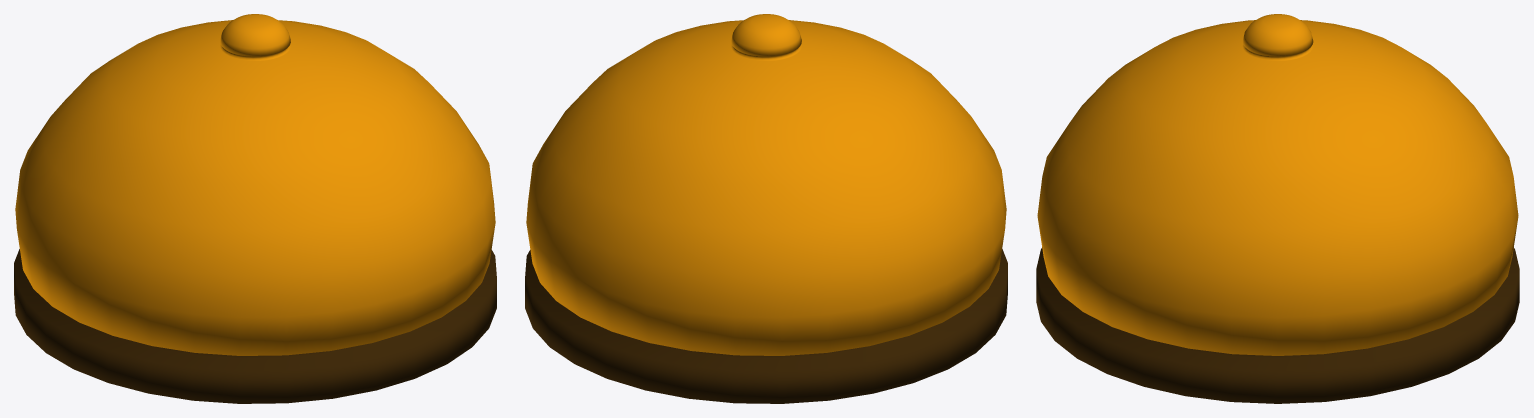
Rendered from SM_Bell.fbx.
3 views of the same model, side by side, from view 1: azimuth 30°, elevation 25°; view 2: azimuth 150°, elevation 25°; view 3: azimuth 270°, elevation 25° (orthographic).
Parts seen in each view (by area): view 1: Bell; view 2: Bell; view 3: Bell.
Boxes of the visible parts, bbox=[...] form: Bell: bbox=[14, 14, 496, 403]; Bell: bbox=[525, 14, 1007, 403]; Bell: bbox=[1036, 14, 1519, 403].
Bounding box in the file's own units: 208 × 134 × 208.
